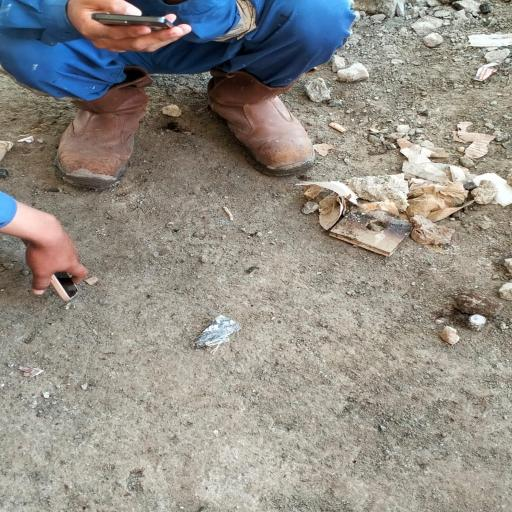safety_shoe: (202, 63, 320, 176), (56, 62, 156, 186)
